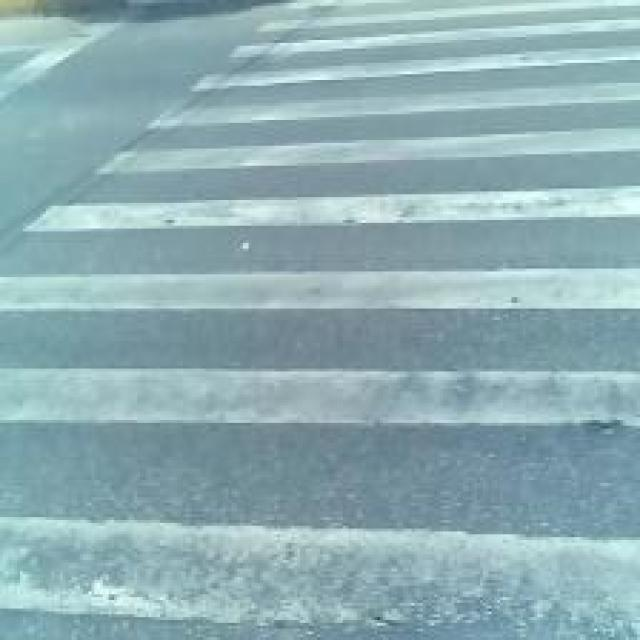walk-crossing: (148, 3, 602, 610)
